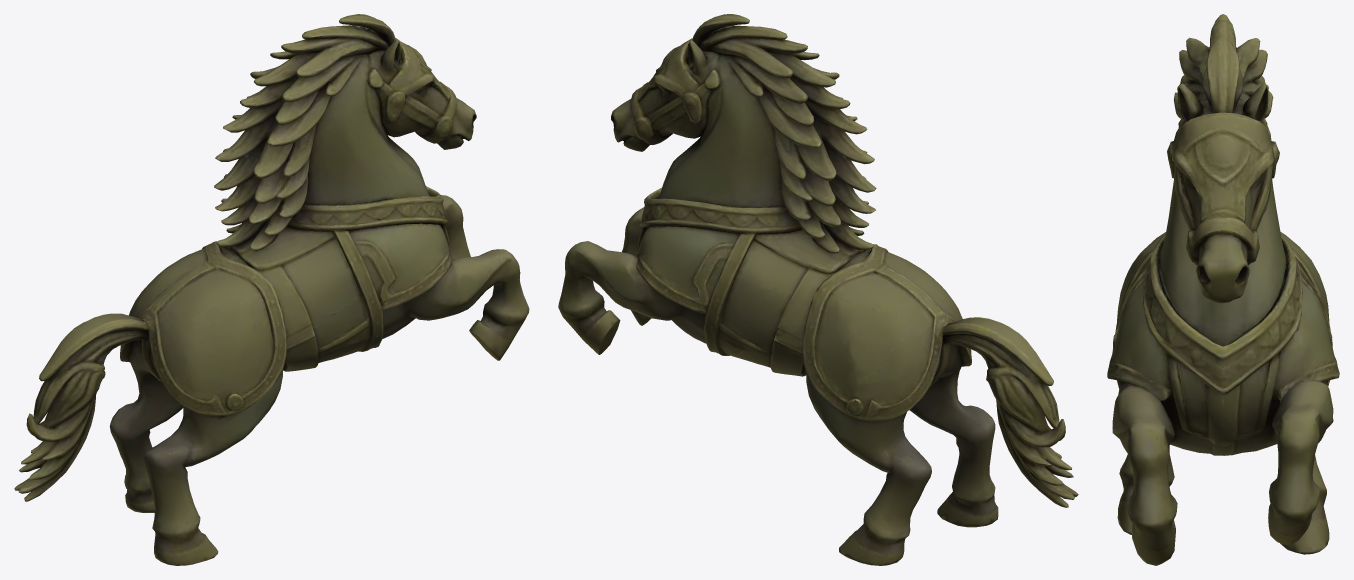
File: bronzeHorse.glb
The picture shows the model from 3 angles, left to right: view 1: azimuth 30°, elevation 25°; view 2: azimuth 150°, elevation 25°; view 3: azimuth 270°, elevation 25°; orthographic projection. The views are drawn at different scales.
Parts seen in each view (by area): view 1: geometry_0; view 2: geometry_0; view 3: geometry_0.
Part boxes in pixels (x1=…): geometry_0: x1=14, y1=14, x2=529, y2=565; geometry_0: x1=558, y1=14, x2=1078, y2=565; geometry_0: x1=1107, y1=14, x2=1339, y2=565.
Size of the model in its own units: 0.9986 by 0.929 by 0.3259.
1 material, 1 textured.
